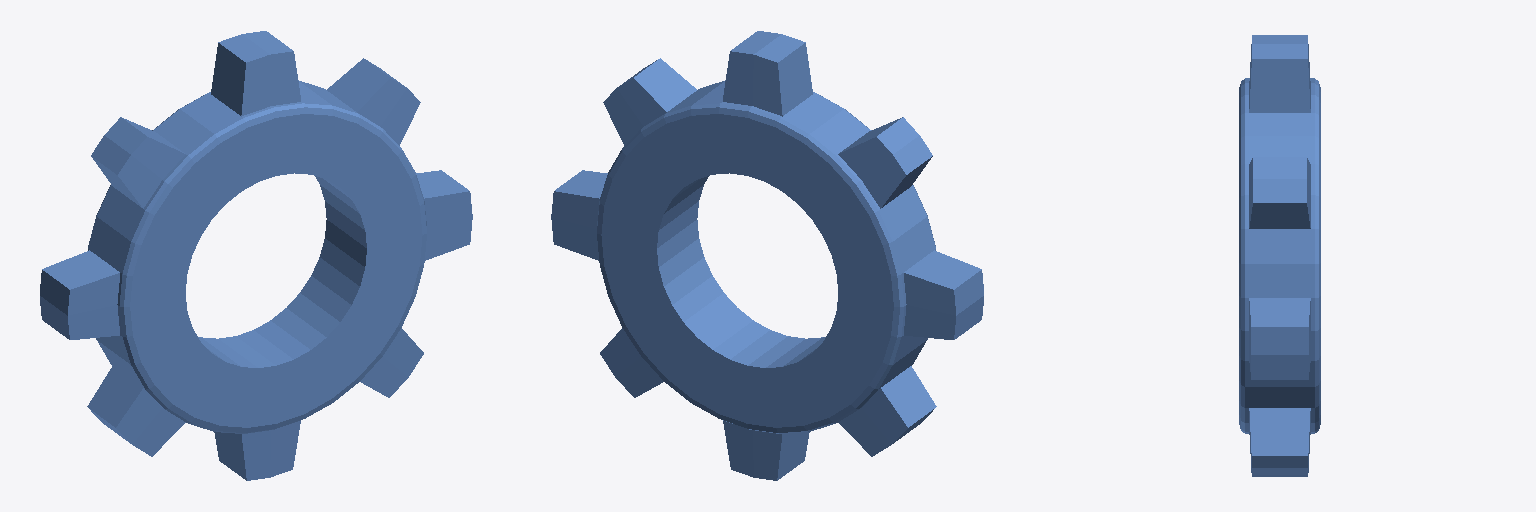
The picture shows the model from 3 angles: view 1: azimuth 30°, elevation 25°; view 2: azimuth 150°, elevation 25°; view 3: azimuth 270°, elevation 25°; orthographic projection.
Parts seen in each view (by area): view 1: sawtooth_Circle; view 2: sawtooth_Circle; view 3: sawtooth_Circle.
Boxes of the visible parts, box(x1,y1,x2,y2) form: sawtooth_Circle: box(40, 31, 472, 480); sawtooth_Circle: box(551, 31, 983, 480); sawtooth_Circle: box(1239, 35, 1320, 476).
Bounding box in the file's own units: 4.58 × 4.58 × 0.7939.
1 materials, 1 textured.